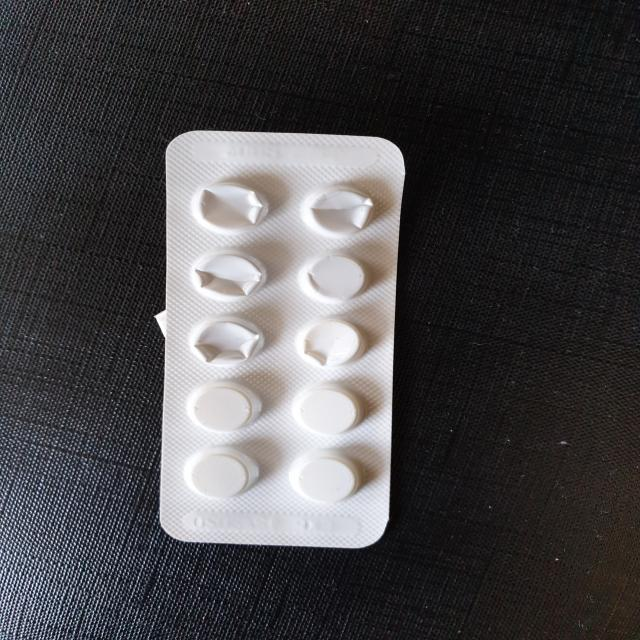Empty: (180, 309, 269, 372), (292, 179, 383, 240), (180, 176, 275, 234), (184, 243, 271, 306), (292, 313, 368, 373)
Pill: (286, 446, 370, 510), (182, 375, 265, 438), (286, 248, 374, 306), (172, 441, 258, 500), (286, 384, 368, 438)
